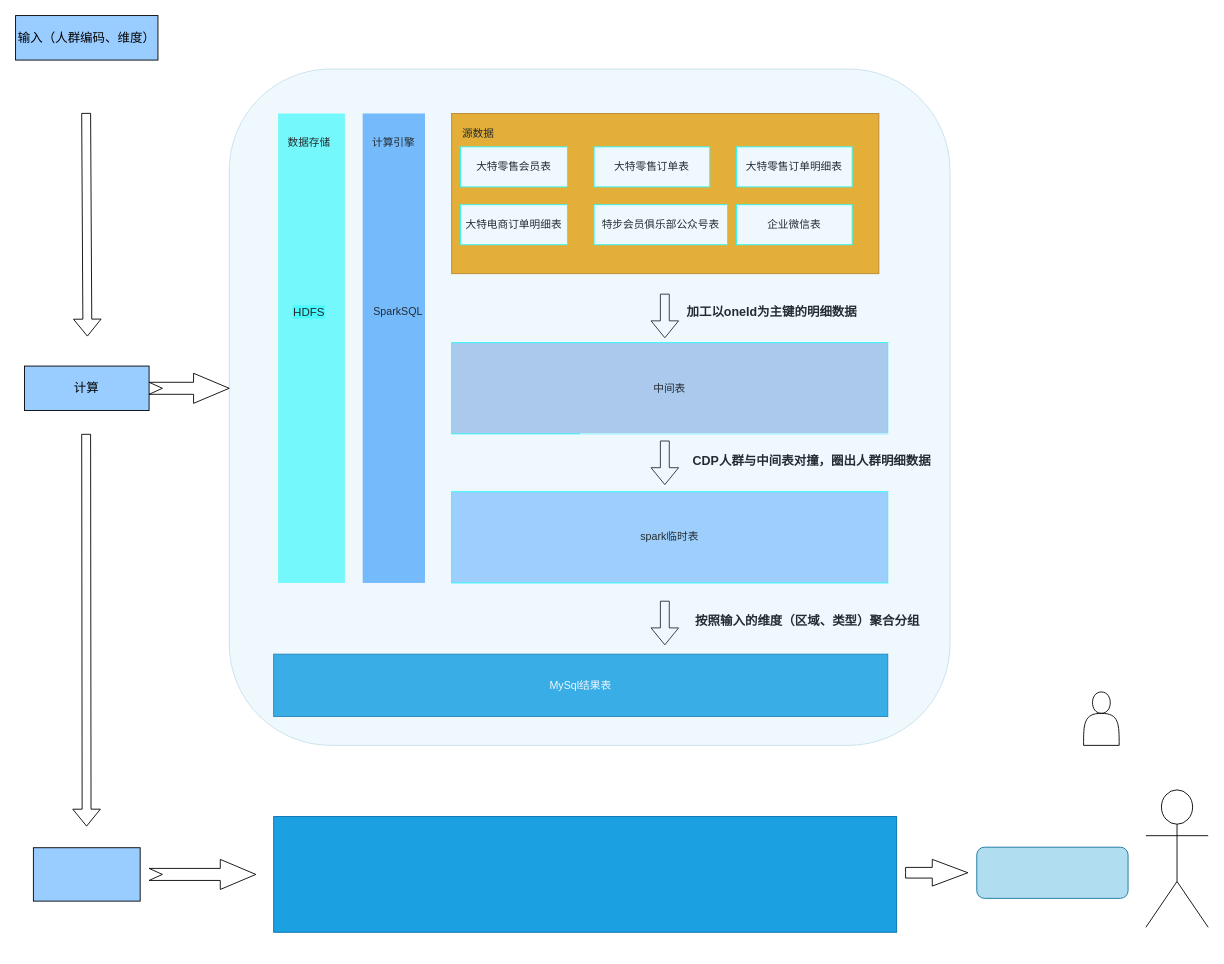
Some shapes in this 1224 by 964 pixel diagram are drawn without their labels. Each missing label, with the centre of its shape:
Actor: point (1176, 858)
Excele下载: point (1052, 872)
呈现: point (86, 874)
